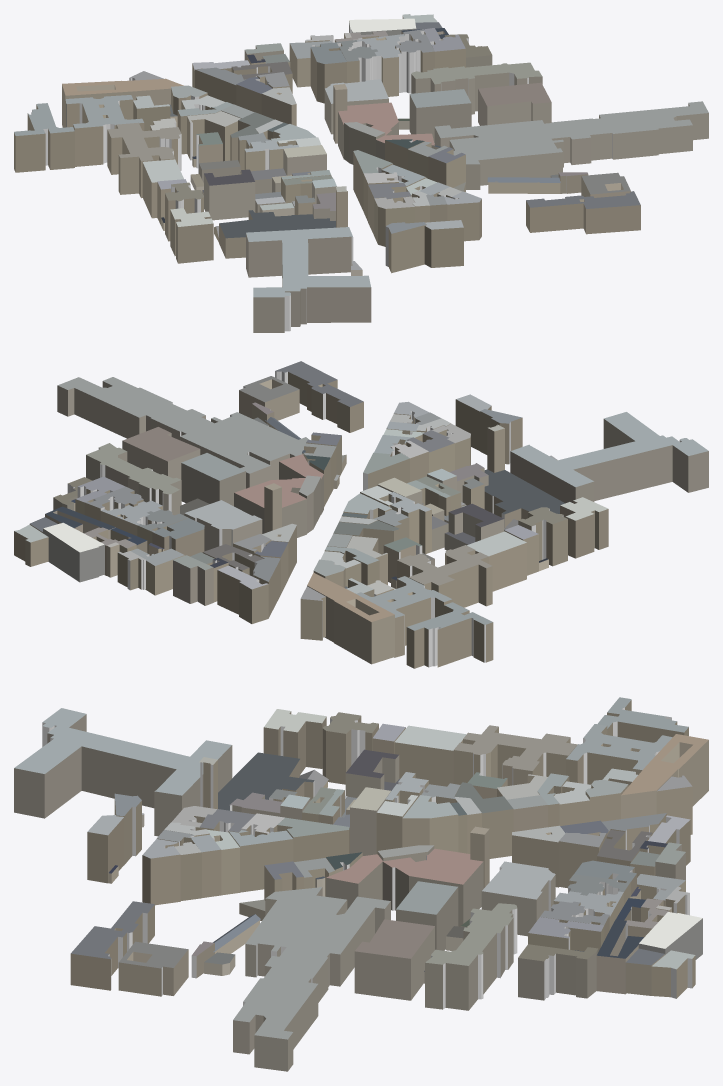
The picture shows the model from 3 angles, top to bottom: view 1: azimuth 30°, elevation 25°; view 2: azimuth 150°, elevation 25°; view 3: azimuth 270°, elevation 25°; orthographic projection. The views are drawn at different scales.
Visible parts, largest first — view 1: tuile; view 2: tuile; view 3: tuile.
Boxes of the visible parts, left/top/right/bottom form: tuile: left=14, top=14, right=708, bottom=332; tuile: left=14, top=361, right=708, bottom=668; tuile: left=14, top=697, right=708, bottom=1071.
Size of the model in its own units: 345 by 38.58 by 300.
